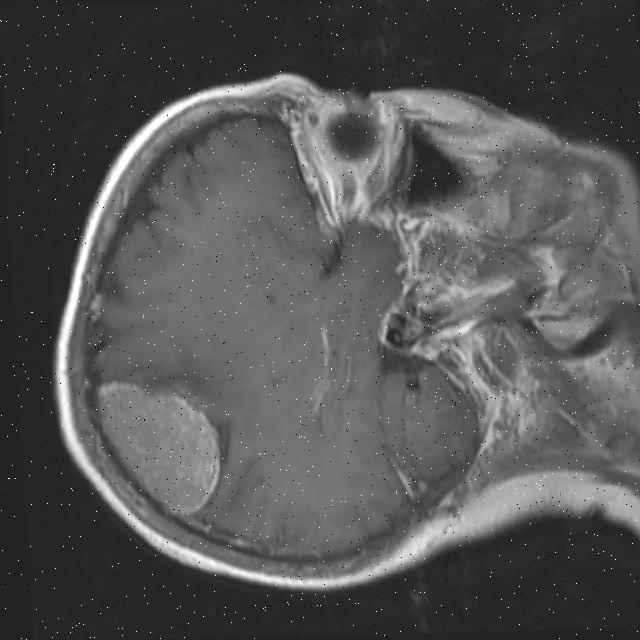Meningioma: (95, 376, 223, 518)
